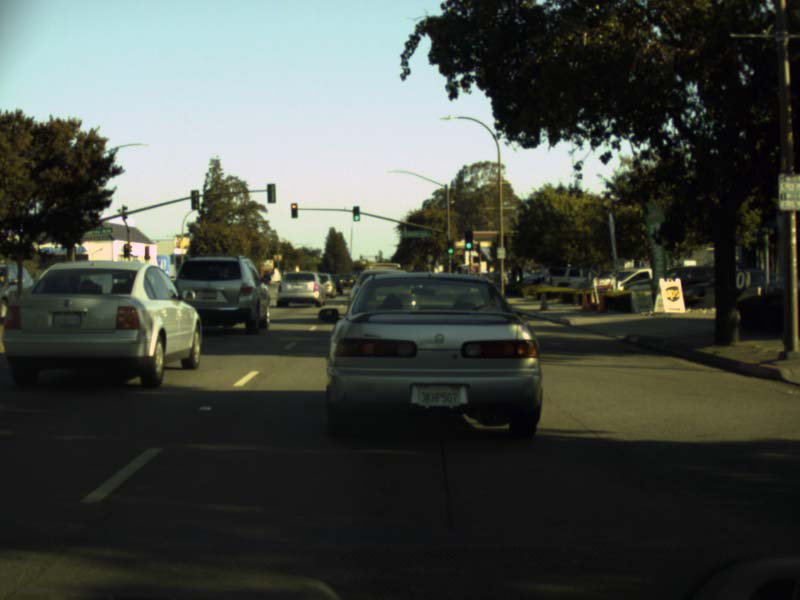Green: (465, 231, 473, 250), (352, 206, 361, 221), (447, 240, 454, 254)
Red: (290, 203, 297, 218)
